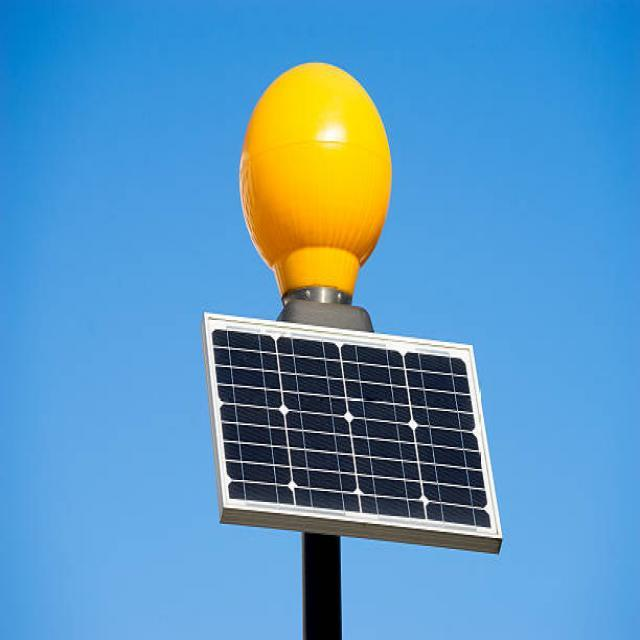no faulty: (204, 316, 505, 539)
